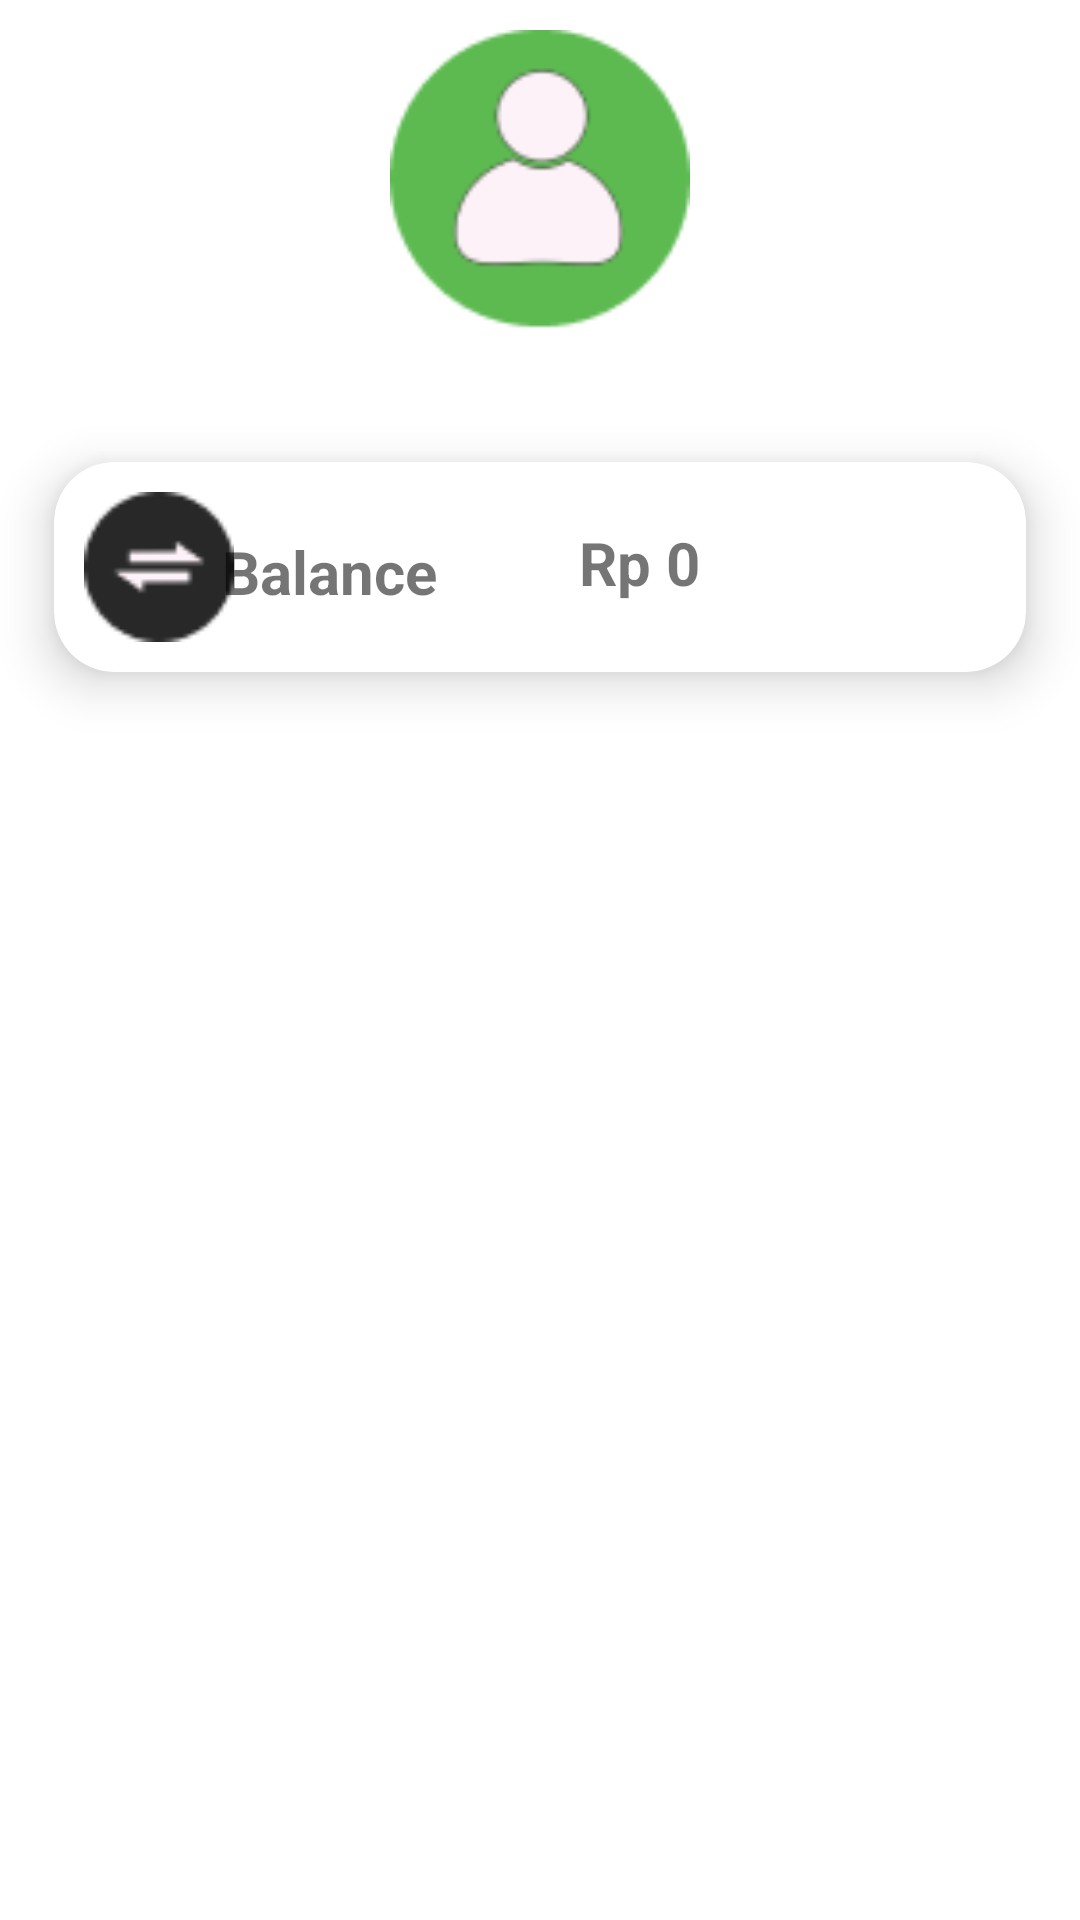

Screen size 1080px×1920px. Icon name, then its center in pixels as (x=x, y=y):
account: (x=540, y=179)
